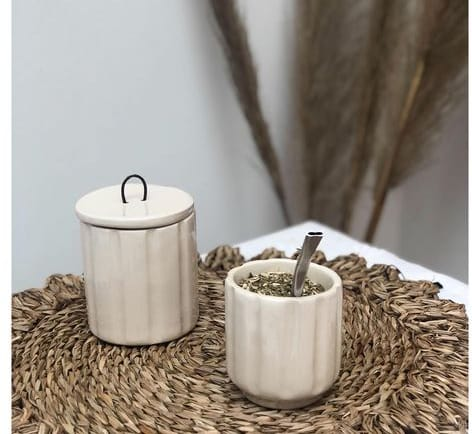mate: (224, 257, 343, 407)
